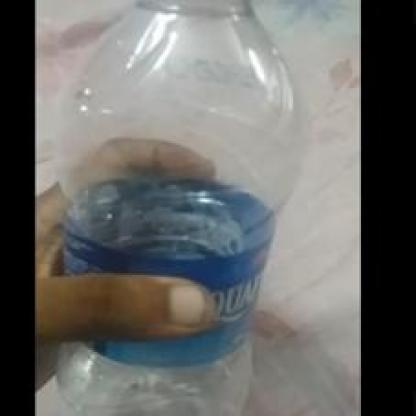bottle: (61, 0, 293, 414)
